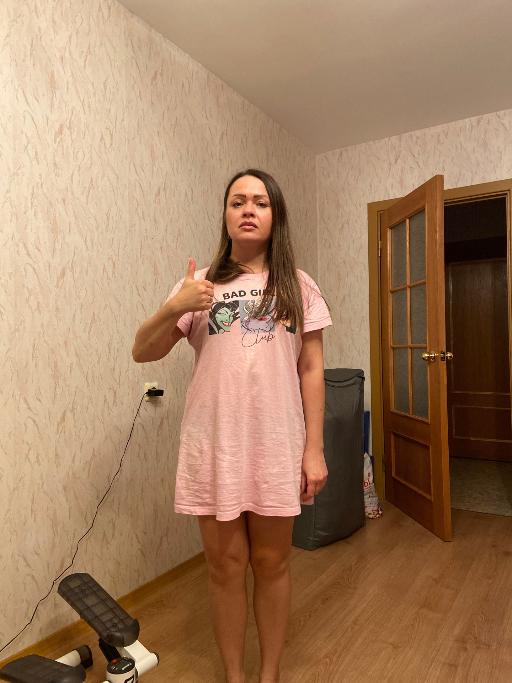like: (175, 255, 216, 312)
no_gesture: (297, 451, 329, 505)
